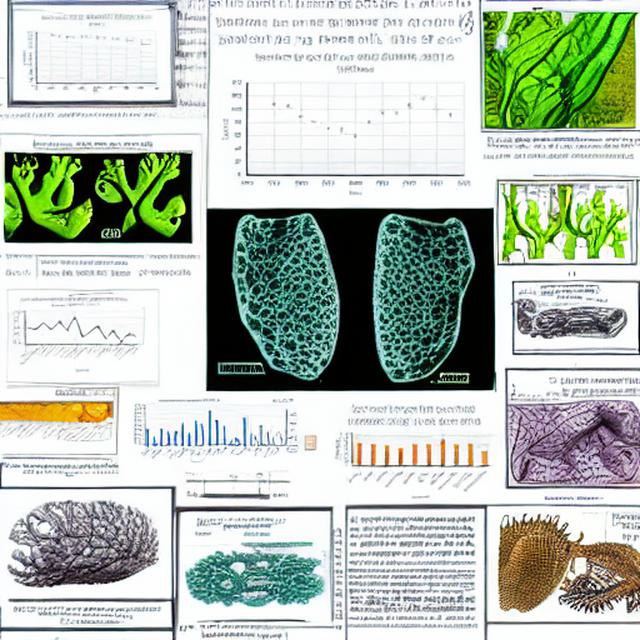Graph: (217, 47, 475, 203), (331, 400, 495, 503), (19, 12, 163, 98), (7, 294, 142, 376), (132, 398, 249, 463)
